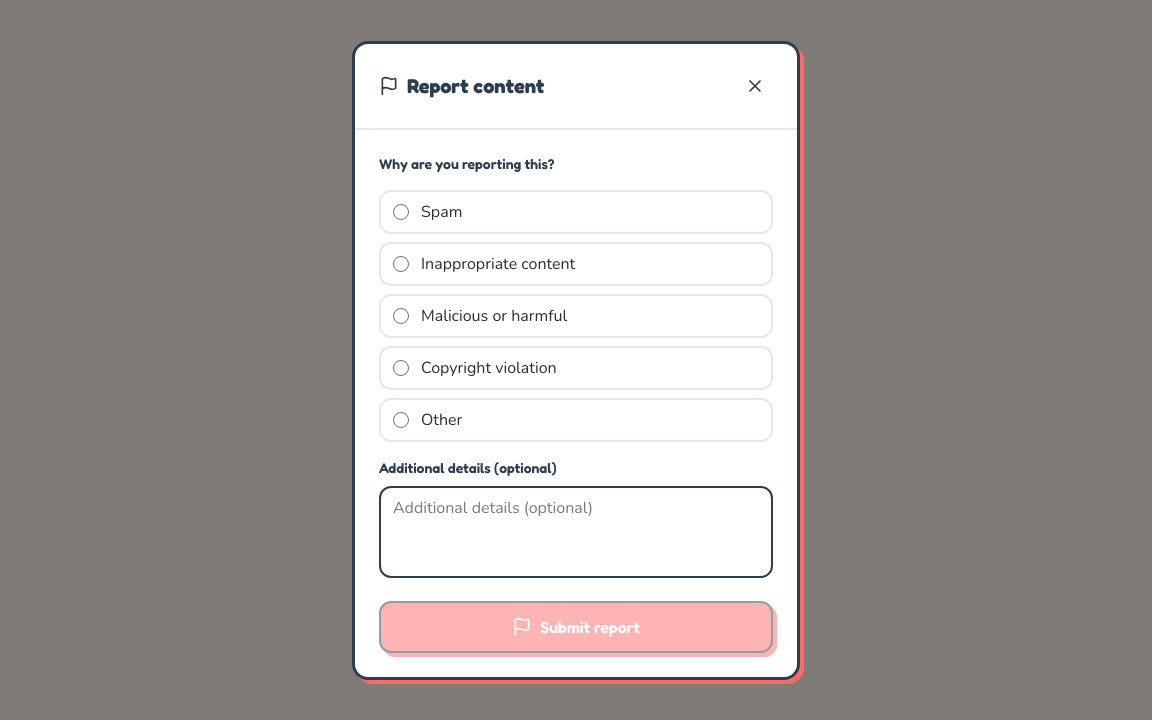
Test: ReportContentModal › submits the exact payload with shareId, reason, and details
Step 1. Click the radio button labelled "Copyright violation" → x=401, y=368, box [393,360,409,376]
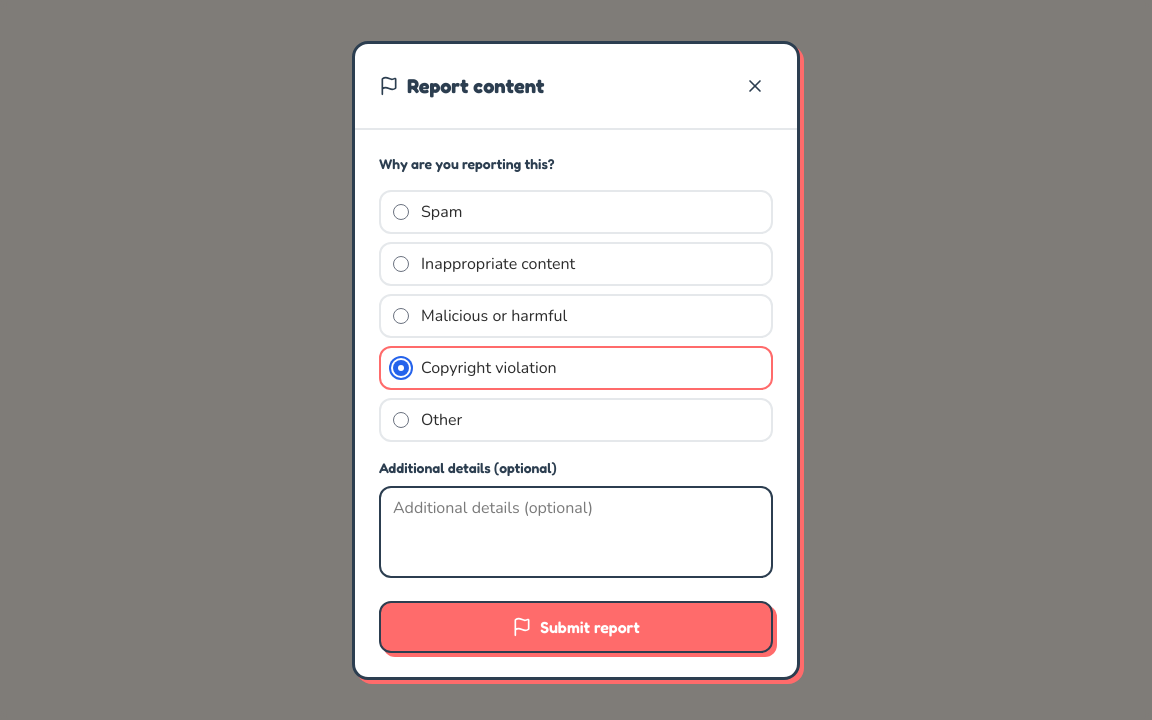
Step 2. Type "This is my content" into the text box with placeholder "Additional details (optional)" → x=576, y=532, box [379,486,773,578]
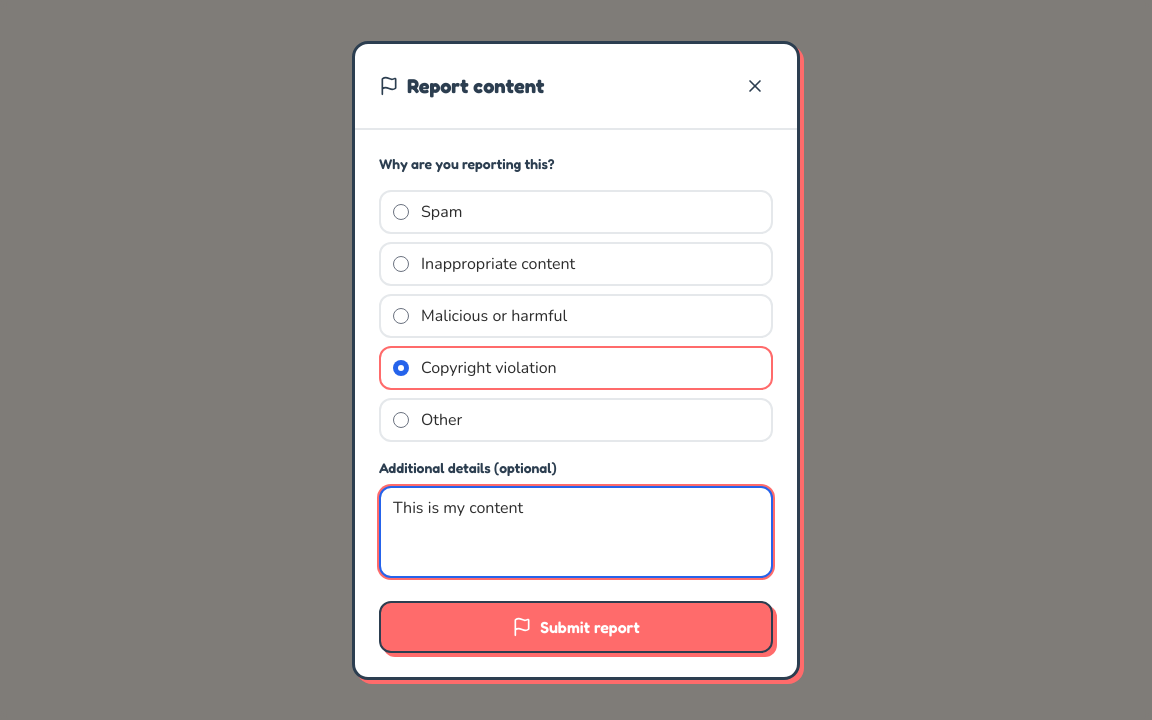
Step 3. Click the button "Submit report" → x=576, y=626, box [379,600,773,652]
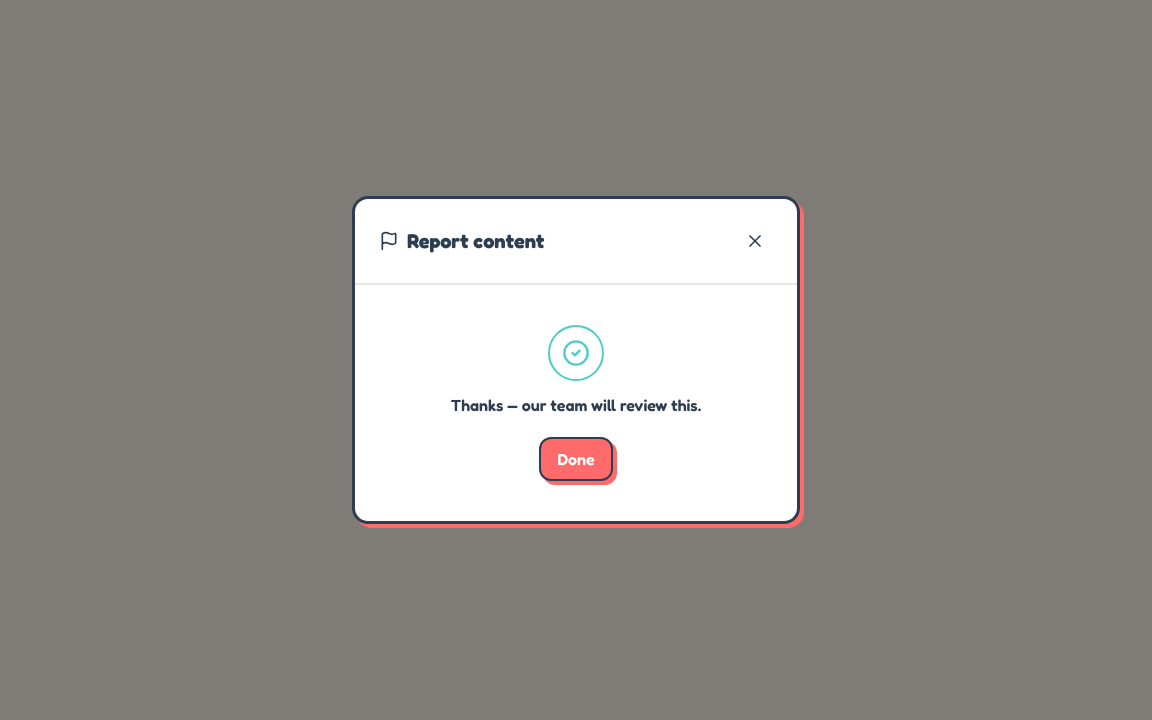
Expected: the text "Thanks — our team will review this." is shown, [451,393,701,417]
